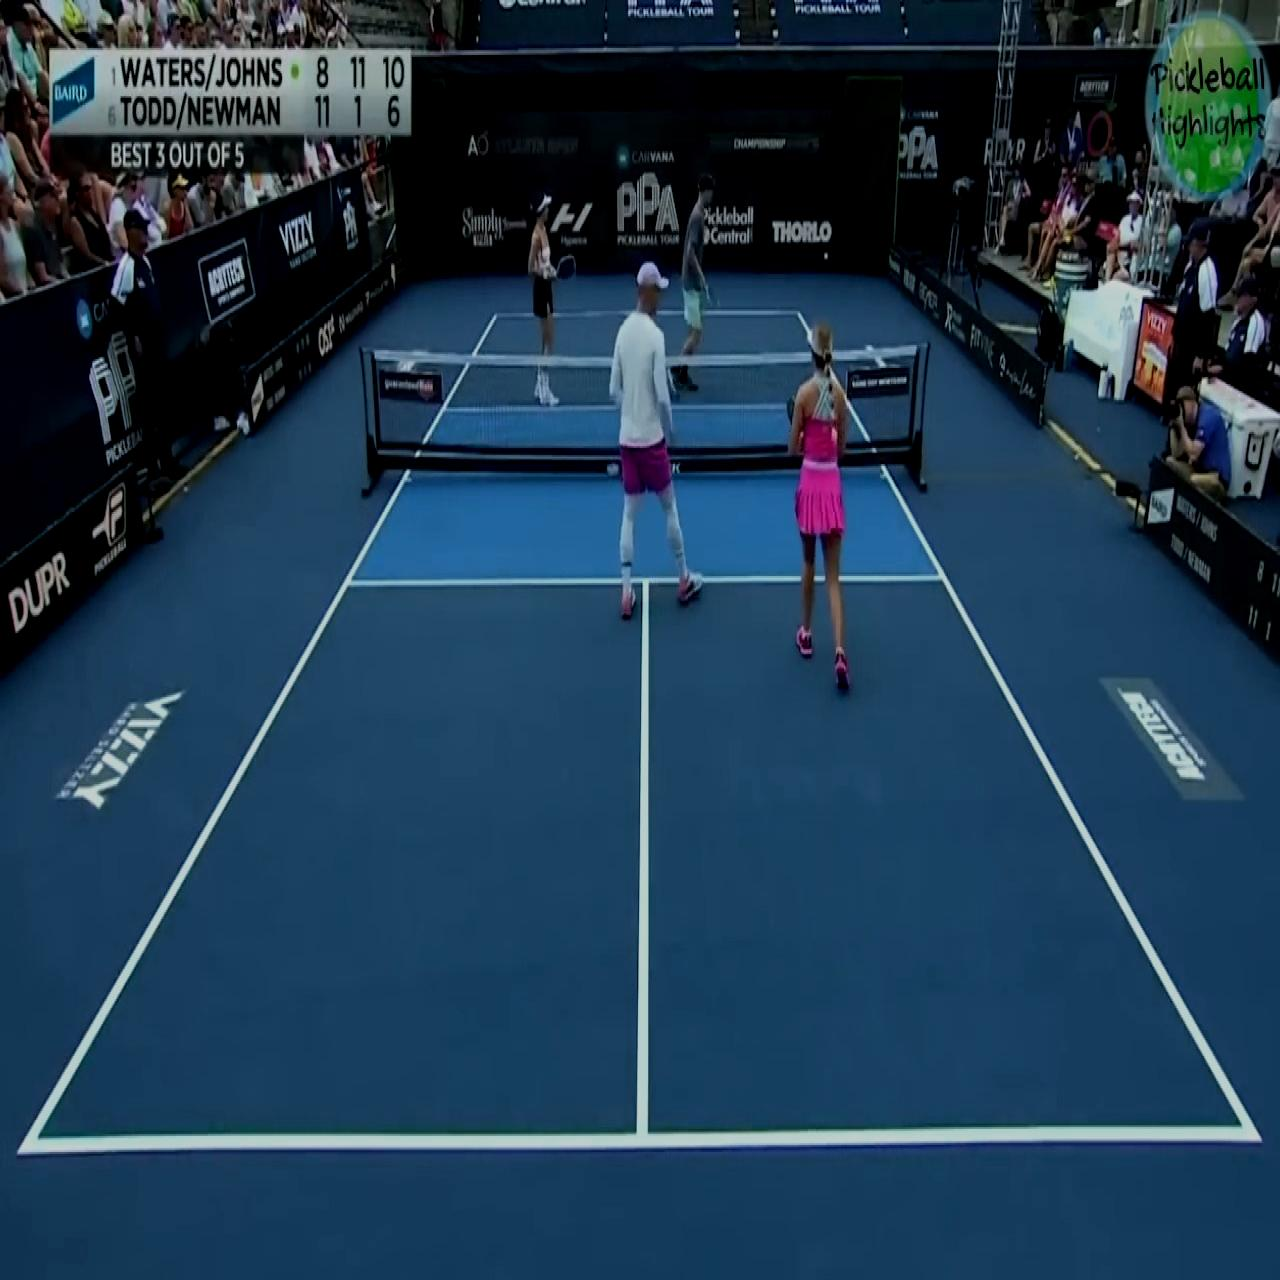Pickleball: (823, 246, 831, 261)
